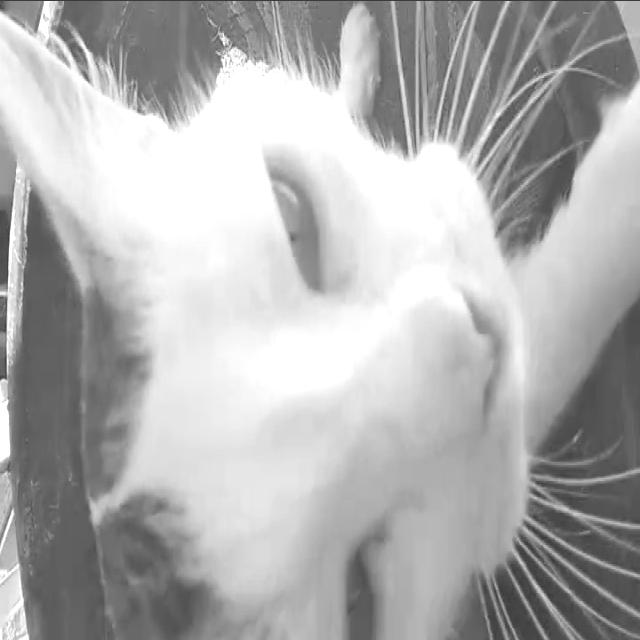Simba: (1, 2, 639, 636)
